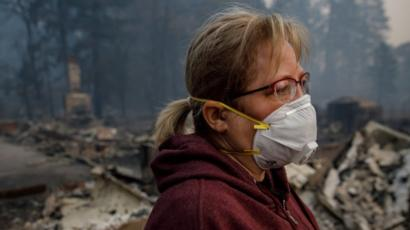n95: (245, 93, 323, 173)
